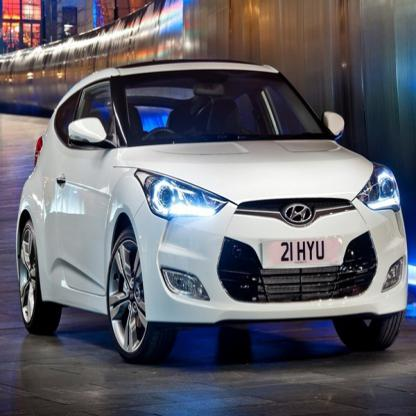Vehicle: (14, 61, 410, 360)
